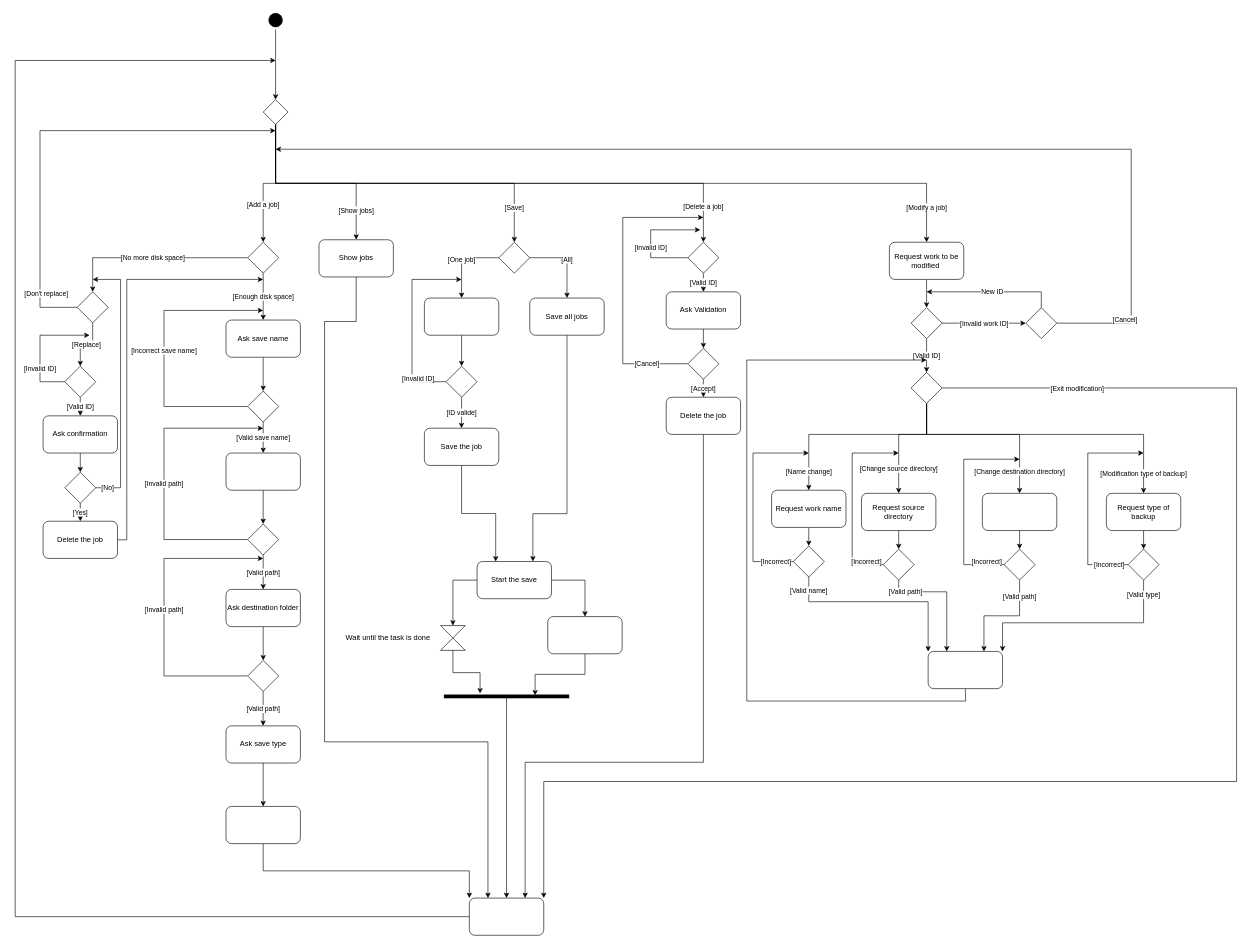
This 1252x946 diagram has some shape labels left out. The shapes that lost their labels are listed below. From the top down, each one's centre as x and y in pixels, then its label:
(461,316): Ask job ID
(262,471): Ask source folder
(1019,512): Request destination directory
(584,635): Progression
(965,670): Record Modification
(262,825): Create the job
(506,916): Return to menu
